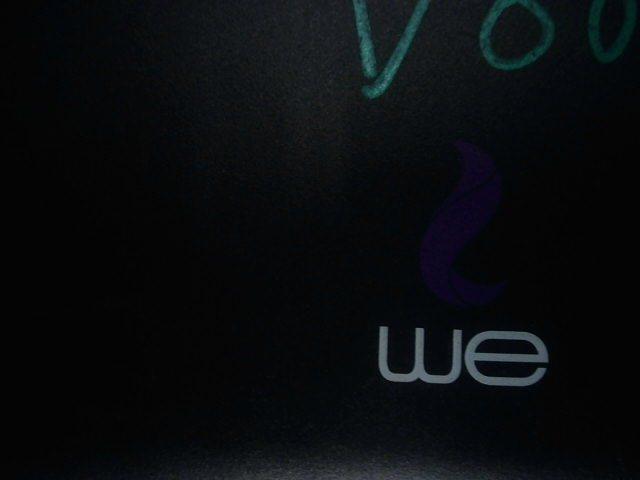AT_We: (354, 132, 555, 397)
